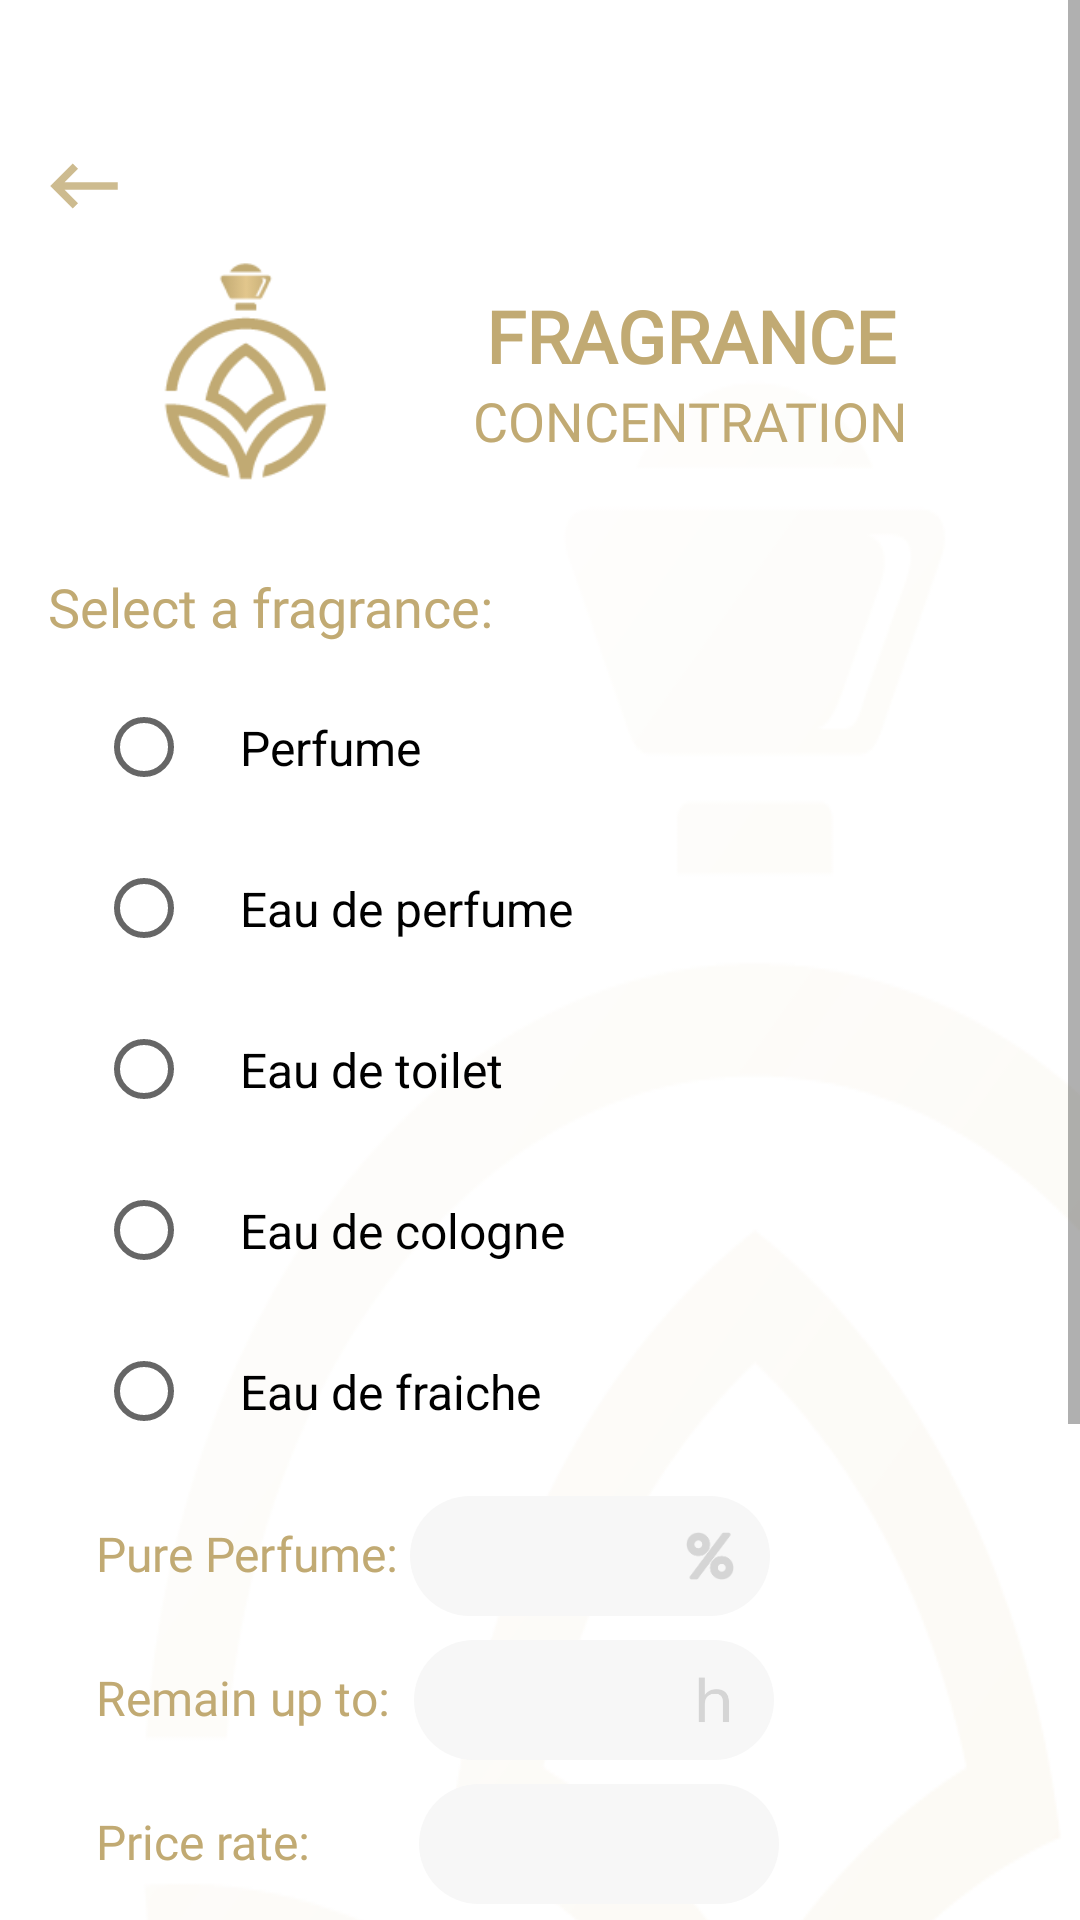

Icon bounding boxes for this 1080 x 1920 phone screenshot, format Rect(x1, y1, x2, y2):
back: Rect(50, 163, 118, 208)
